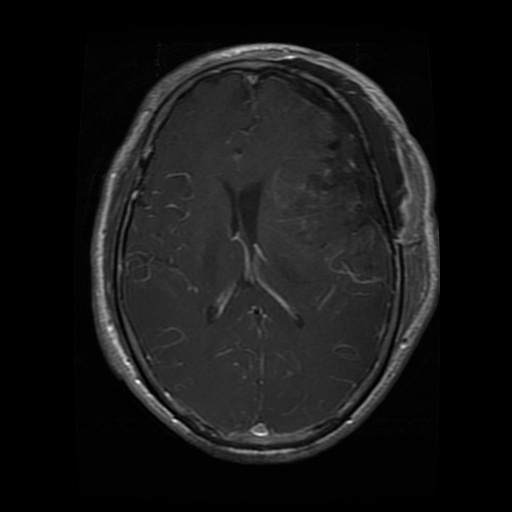glioma: (272, 92, 405, 275)
